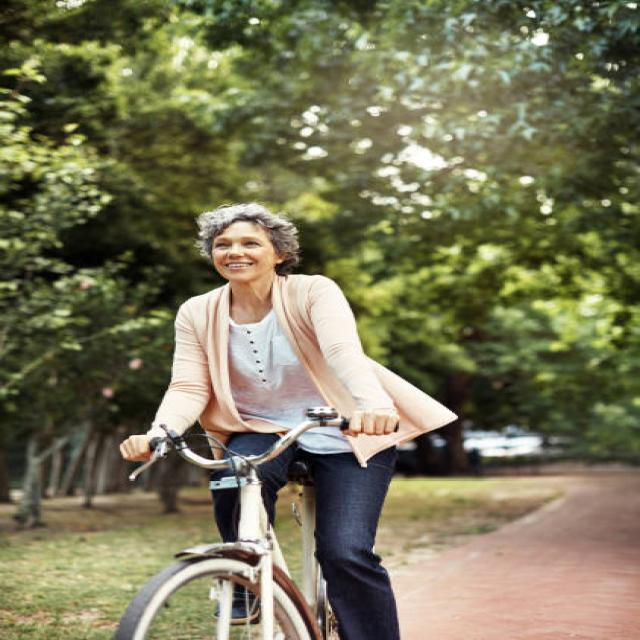Real human 2: (104, 181, 457, 640)
